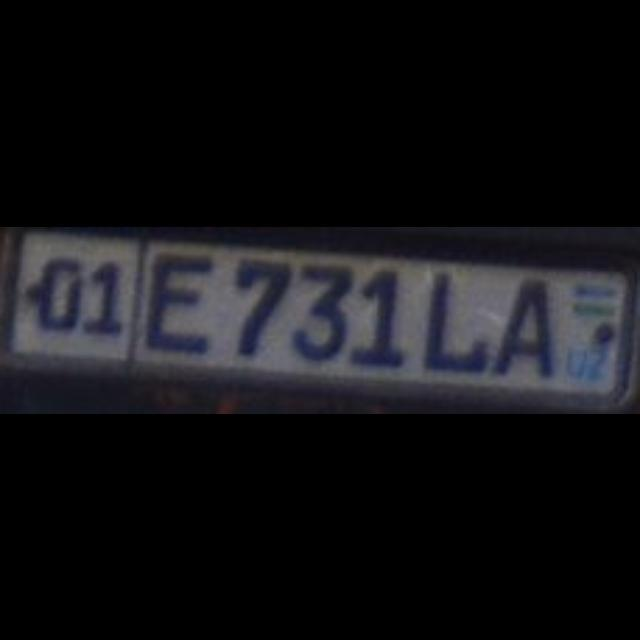0: (31, 254, 81, 324)
1: (343, 266, 402, 368), (81, 256, 117, 330)
3: (296, 260, 344, 366)
7: (230, 253, 288, 354)
A: (484, 274, 558, 374)
E: (143, 246, 221, 354)
L: (420, 268, 480, 374)
